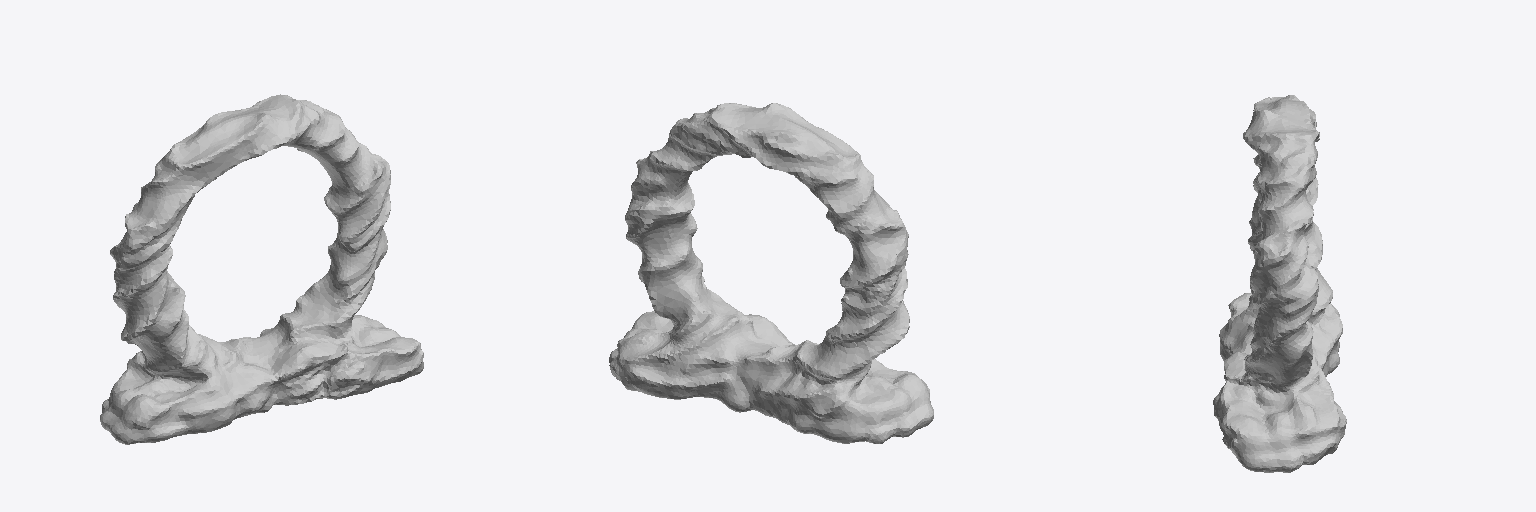
Rendered from Portal.obj.
The picture shows the model from 3 angles: view 1: azimuth 30°, elevation 25°; view 2: azimuth 150°, elevation 25°; view 3: azimuth 270°, elevation 25°; orthographic projection.
Parts seen in each view (by area): view 1: Portal; view 2: Portal; view 3: Portal.
Part boxes in pixels (left/top/right/bottom): Portal: left=100, top=94, right=423, bottom=444; Portal: left=609, top=103, right=933, bottom=443; Portal: left=1213, top=95, right=1346, bottom=472.
Size of the model in its own units: 12.27 by 11.22 by 4.62.